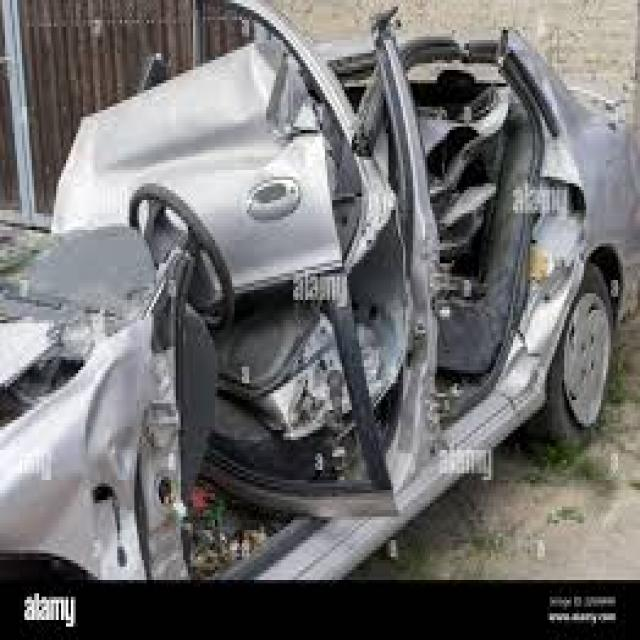severe: (26, 34, 520, 552)
